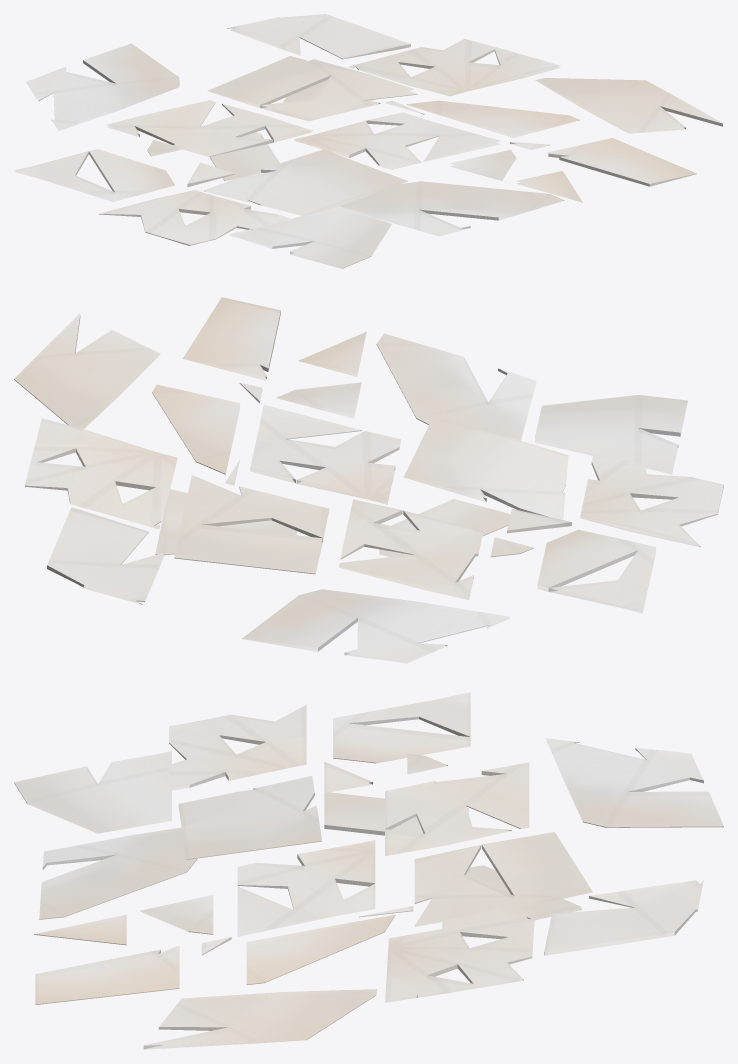
Rendered from LaceTorn.fbx.
3 views of the same model, one above another, from view 1: azimuth 30°, elevation 25°; view 2: azimuth 150°, elevation 25°; view 3: azimuth 270°, elevation 25° (orthographic). The views are drawn at different scales.
Visible parts, largest first — view 1: LaceTorn; view 2: LaceTorn; view 3: LaceTorn.
Part boxes in pixels (bbox=[...]): LaceTorn: bbox=[14, 14, 723, 268]; LaceTorn: bbox=[14, 297, 723, 663]; LaceTorn: bbox=[14, 692, 723, 1049].
Bounding box in the file's own units: 5.12 × 0.1122 × 4.33.
